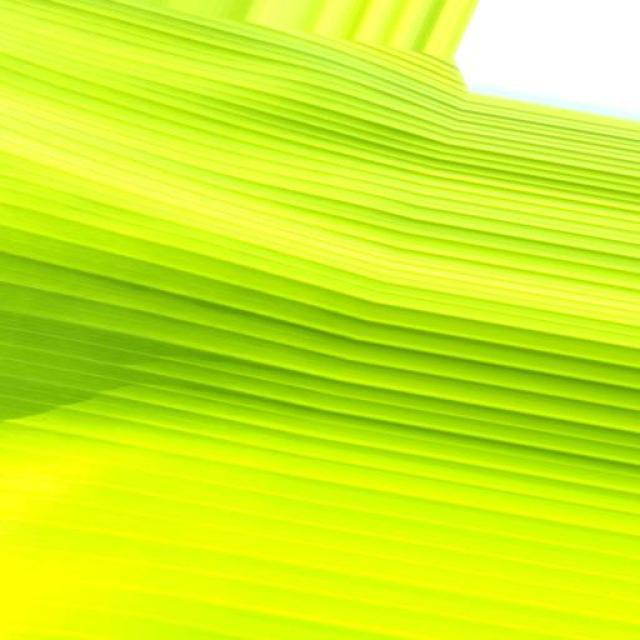Black_leaf_spot: (10, 10, 640, 593)
